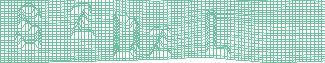D: (112, 10, 142, 58)
L: (204, 9, 232, 57)
S: (14, 2, 44, 51)
z: (66, 2, 98, 40), (147, 24, 172, 57)
